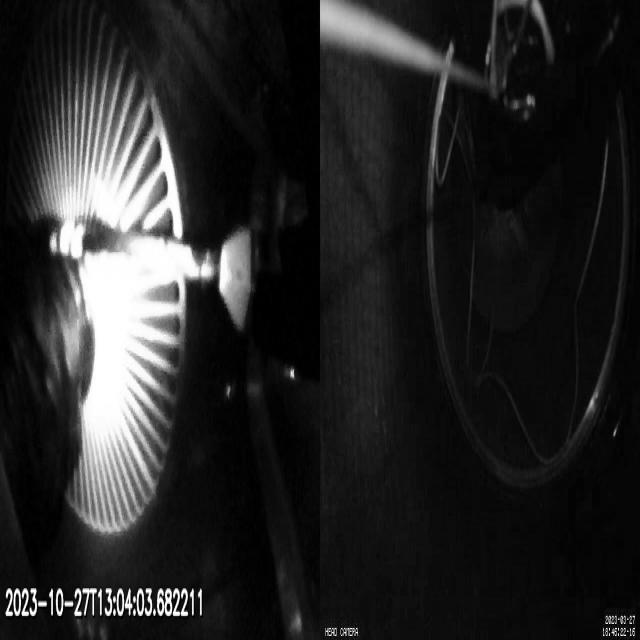head: (218, 233, 290, 322)
white-dots: (48, 222, 86, 259)
